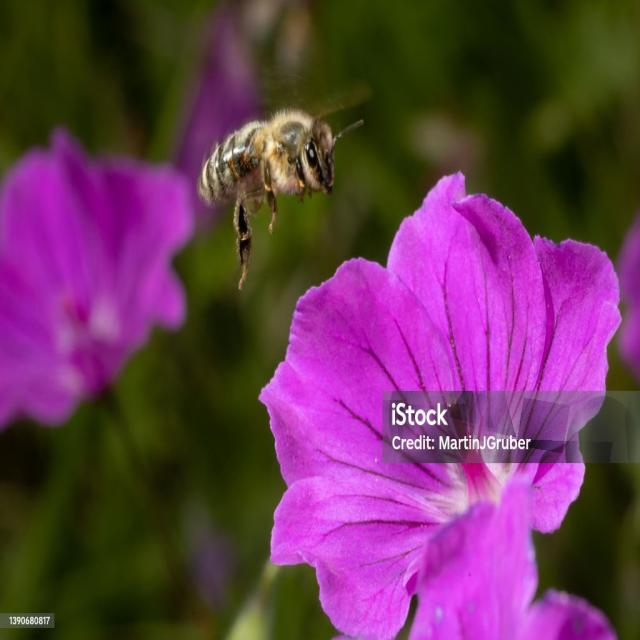bees: (195, 46, 375, 296)
